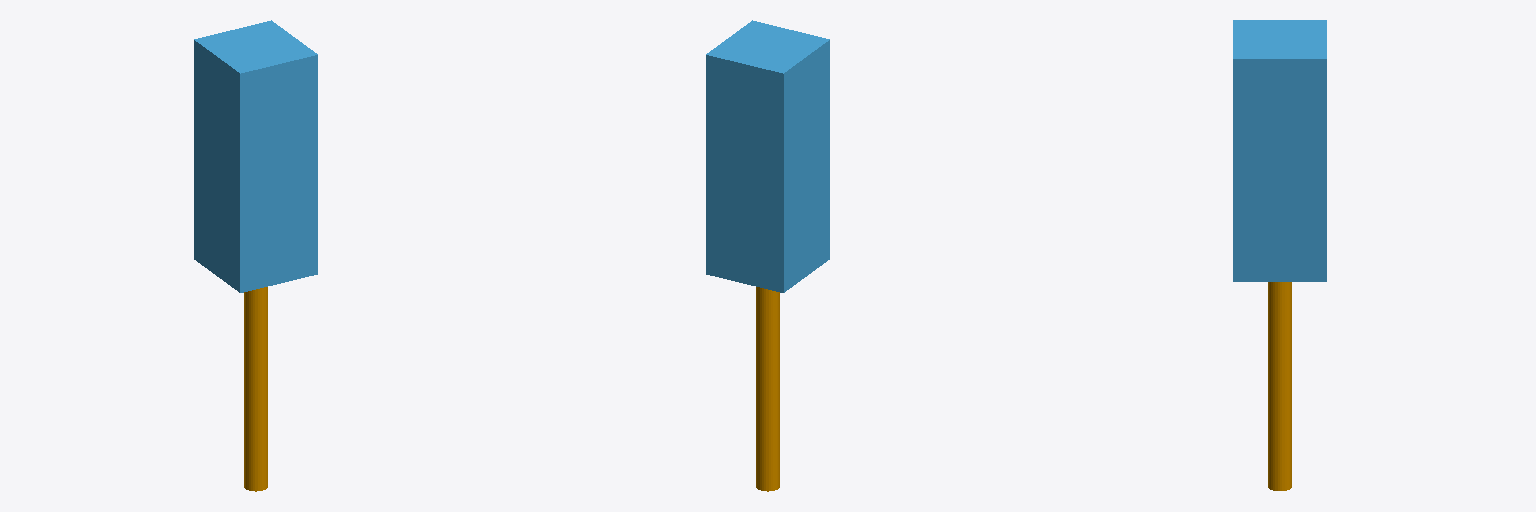
The robot description file, URDF, robot "screwdriver_on_the_table":
<?xml version="1.0" ?>
<!-- this is the one without any virtual joints and links -->
<robot name="screwdriver_on_the_table">
<link name="screwdriver_stick">
    <inertial>
      <mass value="0.05"/>
      <!-- <friction value="1.0"/> -->
      <inertia ixx="0.000041979" ixy="0.0" ixz="0.0" iyy="0.000041979" iyz="0.0" izz="0.000000625"/>
    </inertial>
    <visual>
        <origin rpy="0 0 0" xyz="0 0 0.05"/>
        <geometry>
            <cylinder radius="0.005" length="0.1"/>
        </geometry>
        <!-- <material name="White">
	 	    <color rgba="0.9 0.9 0.9 0.5"/>
        </material> -->
    </visual>
    <collision>
        <origin rpy="0 0 0" xyz="0 0 0.05"/>
        <geometry>
            <cylinder radius="0.005" length="0.1"/>
        </geometry>
    </collision>
</link>

<gazebo reference="screwdriver_body">
    <mu1>1.271317</mu1>
    <mu2>0.307799</mu2>
    <!-- Isaac Sim maps mu1/mu2 to PhysX static/dynamic friction during URDF→USD import -->
</gazebo>

<joint name="screwdriver_stick_body_joint" type="fixed">
    <parent link="screwdriver_stick"/>
    <child link="screwdriver_body"/>
    <origin rpy="0 0 0" xyz="0 0 0.1"/> 
    <axis xyz="0 0 1"/>
</joint>

<link name="screwdriver_body">
    <inertial>
      <mass value="0.138390"/>
      <inertia ixx="0.000132470" ixy="0.0" ixz="0.0" iyy="0.000131187" iyz="0.0" izz="0.000033007"/>
    </inertial>
    <visual>
        <origin rpy="0 0 0" xyz="0 0 0.05"/>
        <geometry>
            <box size="0.037087 0.038557 0.100000"/>
        </geometry>
        <!-- <material name="Red1">
	 	    <color rgba="0.9 0. 0. 0.5"/>
        </material> -->
    </visual>
    <collision>
        <origin rpy="0 0 0" xyz="0 0 0.05"/>
        <geometry>
            <box size="0.037087 0.038557 0.100000"/>
        </geometry>
    </collision>
</link>

<!-- <joint name="screwdriver_body_cap_joint" type="revolute">
    <parent link="screwdriver_body"/>
    <child link="screwdriver_cap"/>
    <origin rpy="0 0 0" xyz="0 0 0.1"/> 
    <axis xyz="0 0 1"/>
</joint>

<link name="screwdriver_cap">
    <inertial>
      <mass value="0.005"/>
      <inertia ixx="0.00001" ixy="0.0" ixz="0.0" iyy="0.000005" iyz="0.0" izz="0.000005"/>
    </inertial>
    <visual>
        <origin rpy="0 0 0" xyz="0 0 0.0006"/>
        <geometry>
            <cylinder radius="0.02" length="0.001"/>
        </geometry>
        <material name="Yellow">
	 	    <color rgba="0.9 0.9 0. 1.0"/>
        </material>
    </visual>
    <collision>
        <origin rpy="0 0 0" xyz="0 0 0.0005"/>
        <geometry>
            <cylinder radius="0.02" length="0.001"/>
        </geometry>
    </collision>
</link> -->

</robot>

--- What the picture shows (computed from the rendered views, not written in the file) ---
The picture shows the robot from 3 angles, left to right: view 1: azimuth 30°, elevation 25°; view 2: azimuth 150°, elevation 25°; view 3: azimuth 270°, elevation 25°; orthographic projection.
Robot: screwdriver_on_the_table — 2 links, 1 joints (1 fixed); root link screwdriver_stick; default pose: every joint at zero.
Visible links, largest first — view 1: screwdriver_body, screwdriver_stick; view 2: screwdriver_body, screwdriver_stick; view 3: screwdriver_body, screwdriver_stick.
Link boxes in pixels (bbox=[...]): screwdriver_body: bbox=[194, 20, 317, 292]; screwdriver_stick: bbox=[244, 287, 267, 491]; screwdriver_body: bbox=[706, 20, 829, 292]; screwdriver_stick: bbox=[756, 287, 779, 491]; screwdriver_body: bbox=[1233, 20, 1326, 281]; screwdriver_stick: bbox=[1268, 282, 1291, 490].
Bounding box of the posed robot: 0.0371 × 0.0386 × 0.2 m (x, y, z).
Geometry: primitives only (box / cylinder / sphere), no mesh files.
